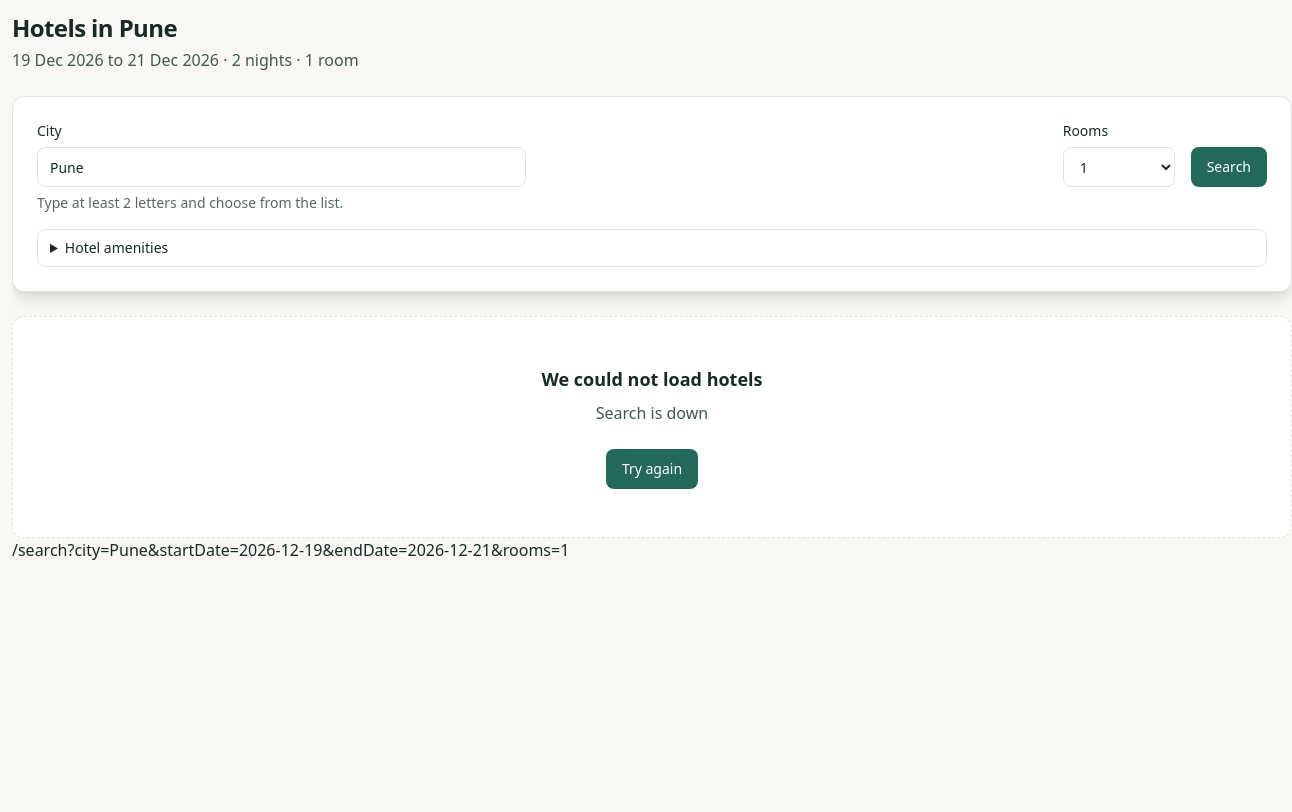
it: the search results › shows the error and lets the user try again
This screenshot has width=1292, height=812.
Expected: the heading "We could not load hotels" is shown, [542,367,762,391]
Expected: the text "Search is down" is shown, [596,402,708,424]
Click the button "Try again": (652, 469) [606,449,698,489]
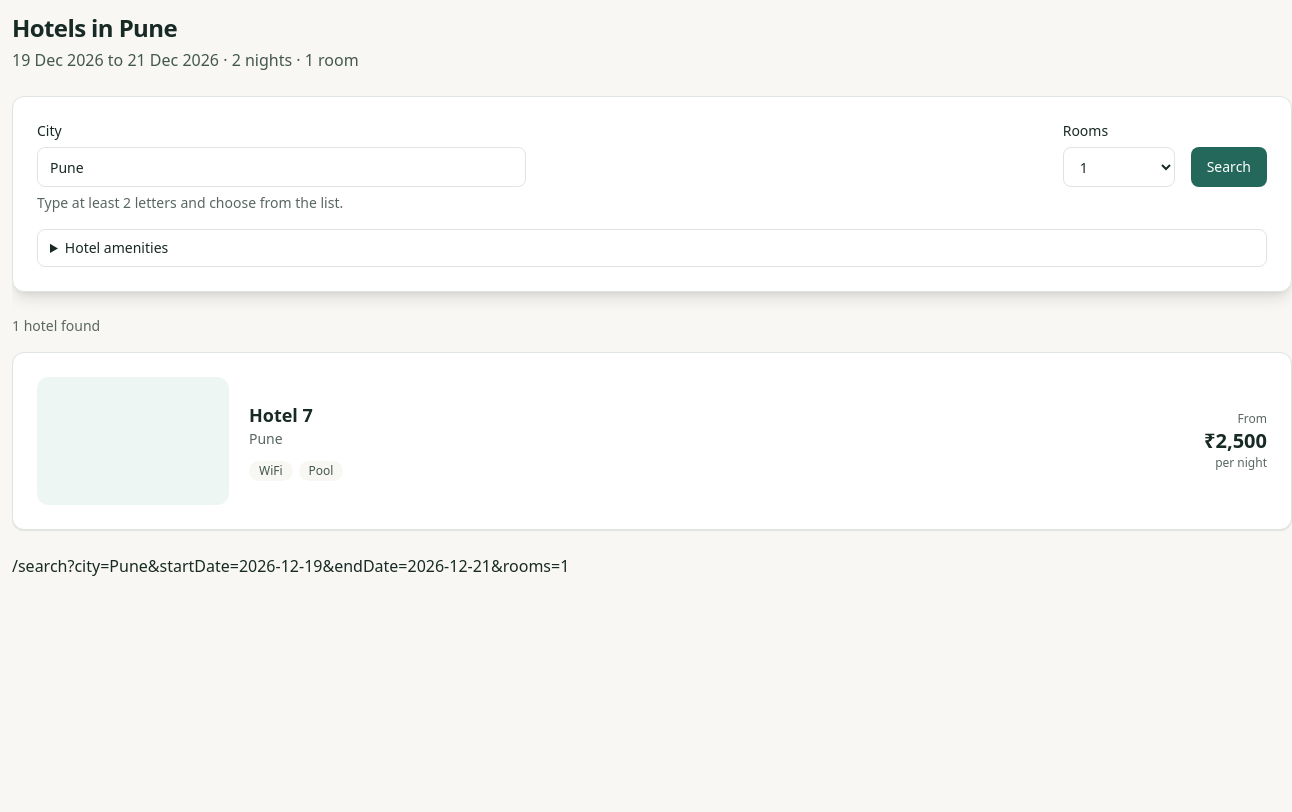
Expected: the link "Hotel 7" is shown, [249,403,313,427]
